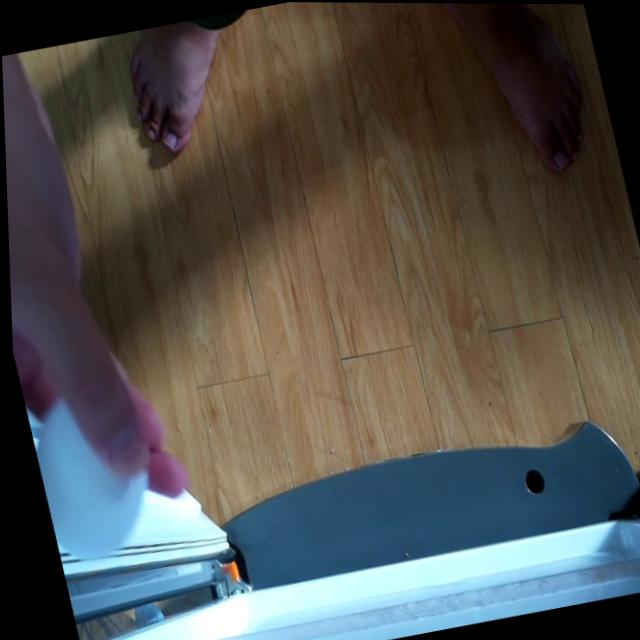egg: (20, 379, 166, 567)
